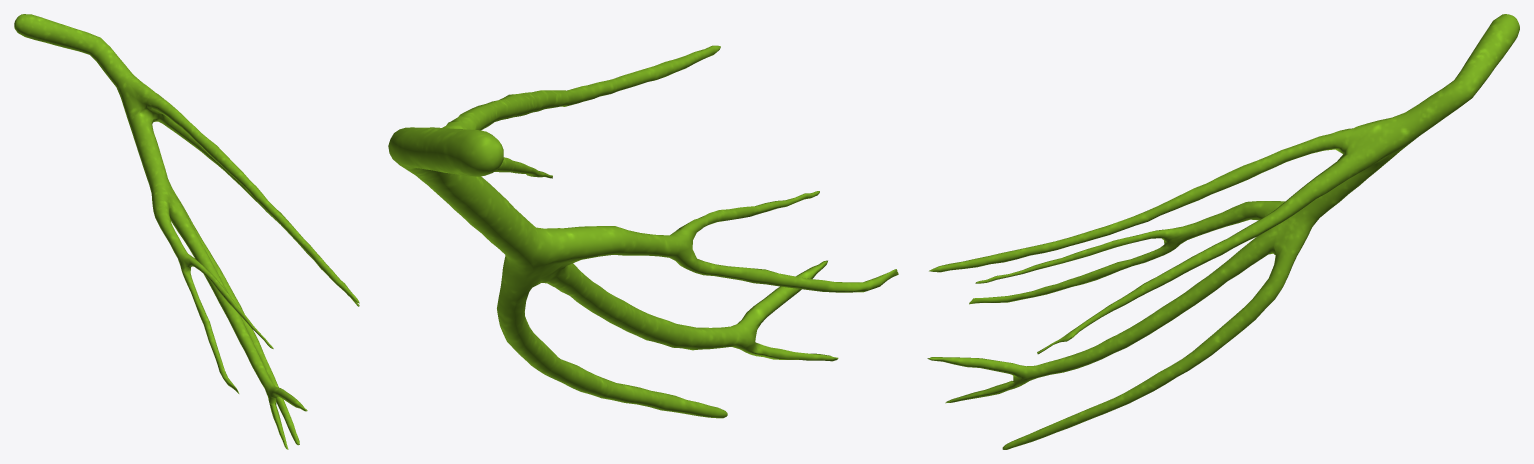
The model's file is CN I - Olfactory Nerve.glb.
The picture shows the model from 3 angles, left to right: view 1: azimuth 30°, elevation 25°; view 2: azimuth 150°, elevation 25°; view 3: azimuth 270°, elevation 25°; orthographic projection. The views are drawn at different scales.
Visible parts, largest first — view 1: CN I - Olfactory Nerve.glb; view 2: CN I - Olfactory Nerve.glb; view 3: CN I - Olfactory Nerve.glb.
Boxes of the visible parts, <box> form: CN I - Olfactory Nerve.glb: <box>14,14,359,449</box>; CN I - Olfactory Nerve.glb: <box>388,45,898,418</box>; CN I - Olfactory Nerve.glb: <box>927,14,1519,449</box>.
Bounding box in the file's own units: 0.0227 × 0.0412 × 0.0573.
Materials: 1 (1 with a texture image).
